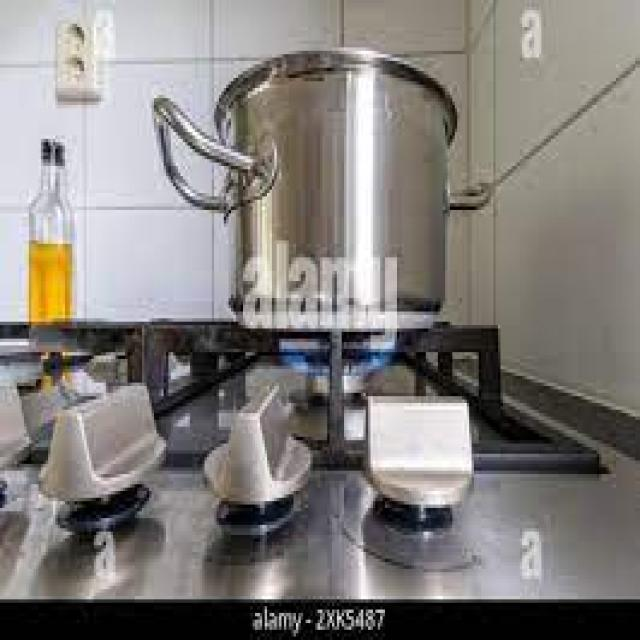knob_OFF: (262, 322, 406, 424)
